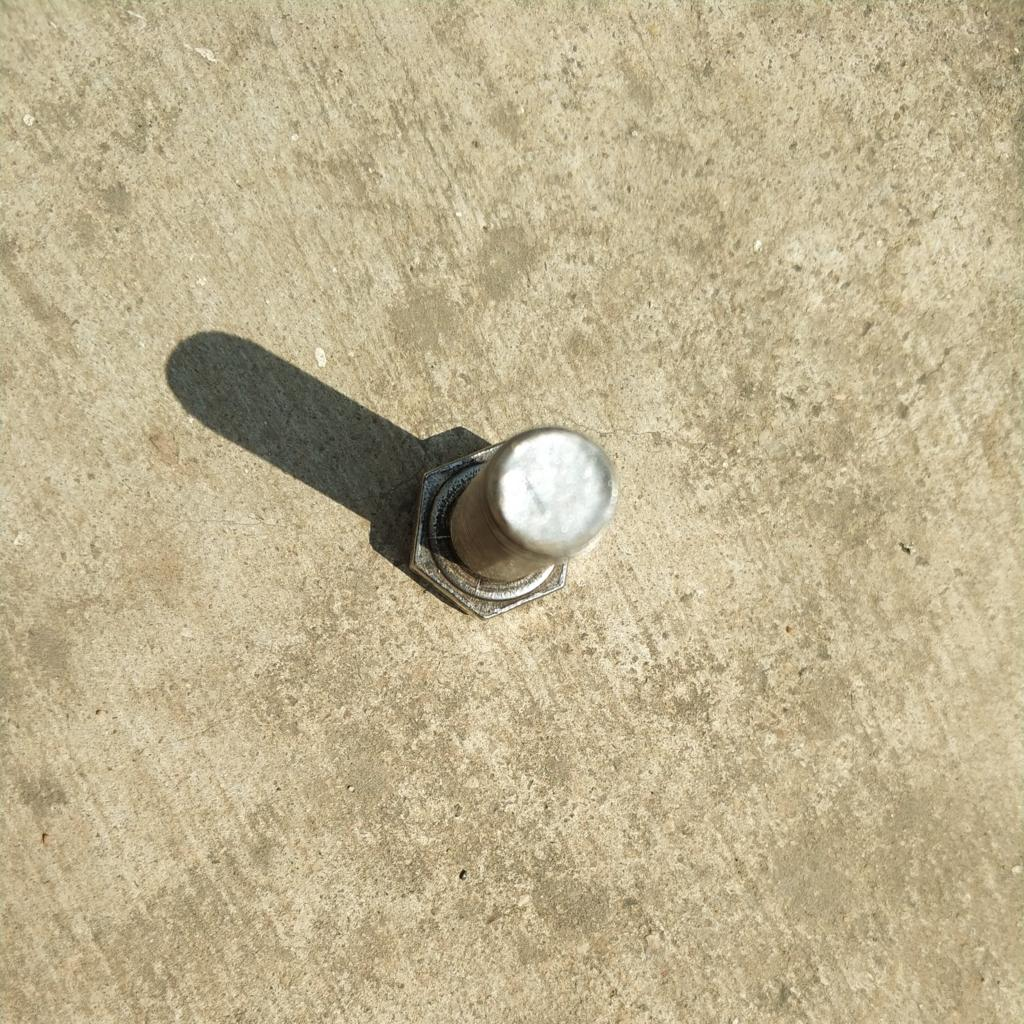screwtype2silver: (382, 418, 632, 627)
